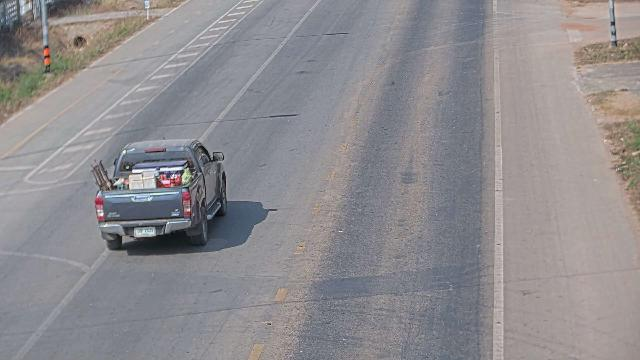pickup-truck: (90, 137, 228, 250)
